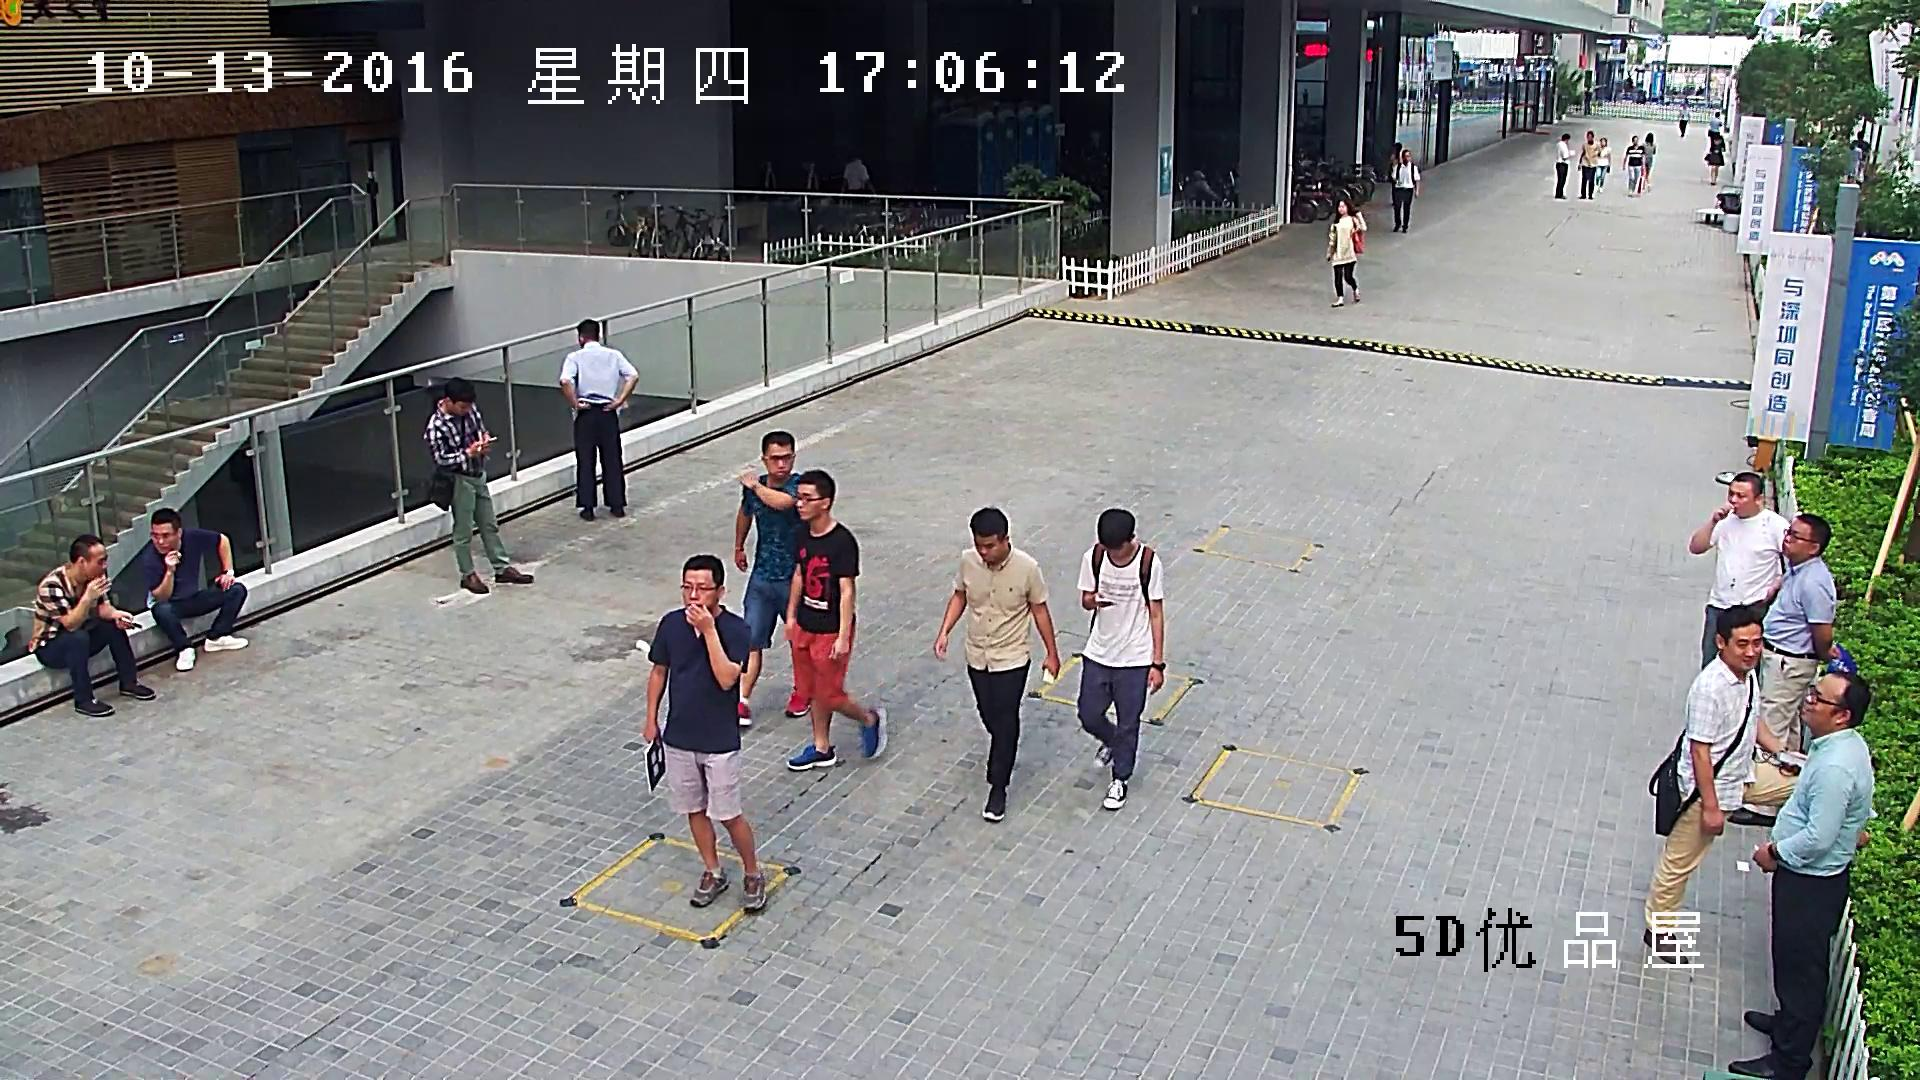person: (1643, 605, 1867, 963), (1729, 671, 1872, 1080), (643, 555, 766, 912), (932, 507, 1060, 821), (1729, 514, 1841, 826), (785, 469, 886, 771), (1077, 509, 1165, 809), (423, 376, 534, 593), (28, 535, 156, 716), (736, 431, 811, 725), (1688, 472, 1791, 670), (144, 507, 248, 671), (560, 319, 639, 521), (1325, 198, 1368, 307), (1391, 150, 1420, 233), (1577, 130, 1600, 199), (1622, 135, 1646, 197), (840, 153, 876, 193), (1554, 134, 1575, 199), (1849, 131, 1872, 184), (1703, 132, 1725, 186), (1641, 133, 1656, 192), (1595, 137, 1611, 192), (1707, 111, 1721, 151), (1679, 99, 1689, 136)
